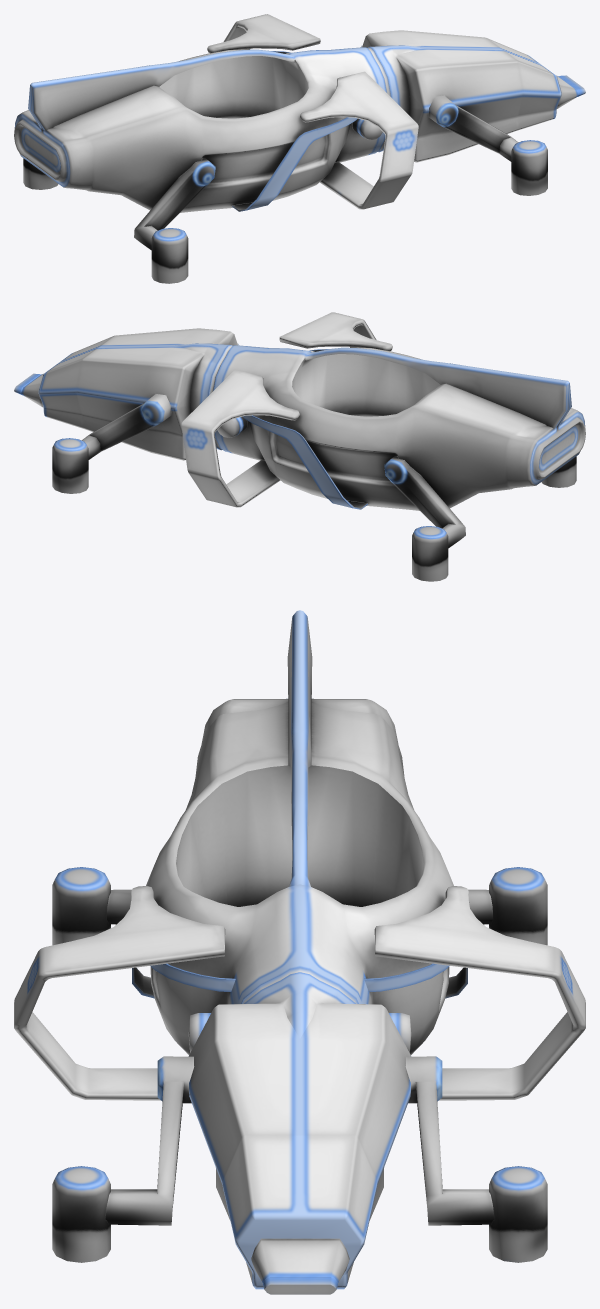
The model's file is f1_car_tron_04.dae.
3 views of the same model, one above another, from view 1: azimuth 30°, elevation 25°; view 2: azimuth 150°, elevation 25°; view 3: azimuth 270°, elevation 25° (orthographic). The views are drawn at different scales.
Visible parts, largest first — view 1: Tron_Car; view 2: Tron_Car; view 3: Tron_Car.
Boxes of the visible parts, bbox=[...] form: Tron_Car: bbox=[14, 14, 585, 283]; Tron_Car: bbox=[14, 312, 585, 581]; Tron_Car: bbox=[14, 610, 585, 1294].
Size of the model in its own units: 0.2933 by 0.1566 by 0.0845.
Materials: 1 (1 with a texture image).
